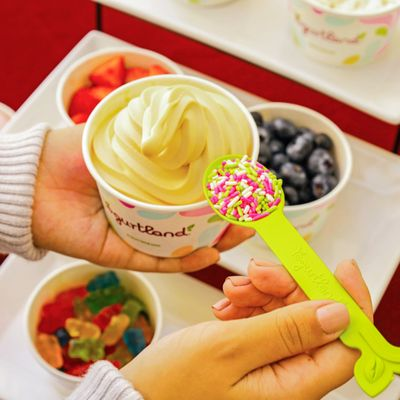pizza: (80, 73, 263, 260)
sushi: (23, 263, 165, 394), (248, 102, 354, 233), (55, 48, 177, 127)
